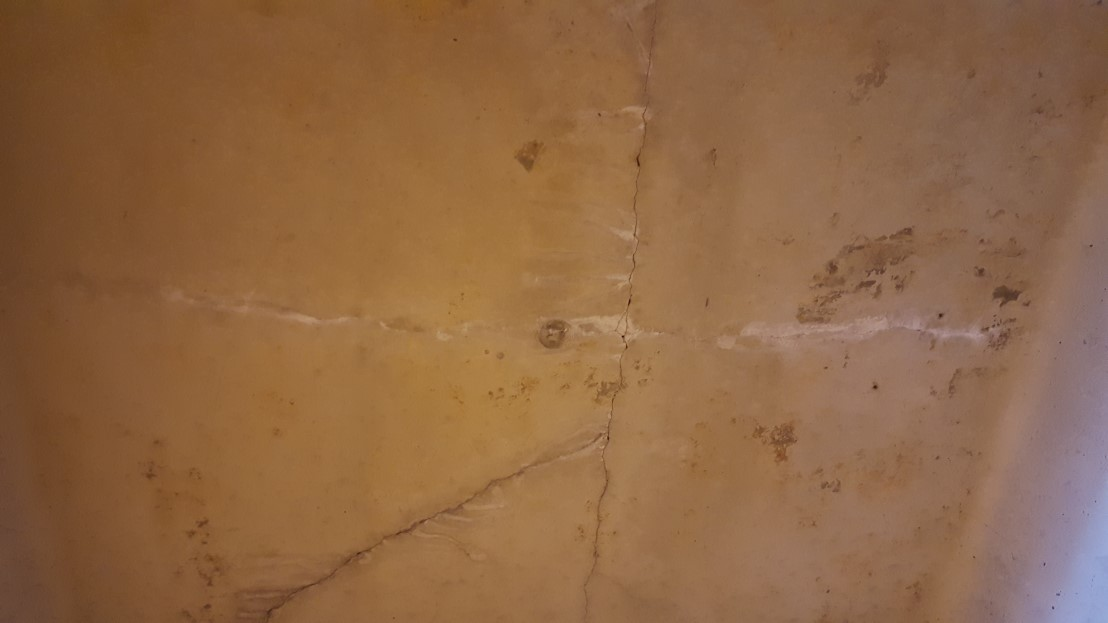Crack: (258, 419, 620, 623), (571, 0, 670, 623)
